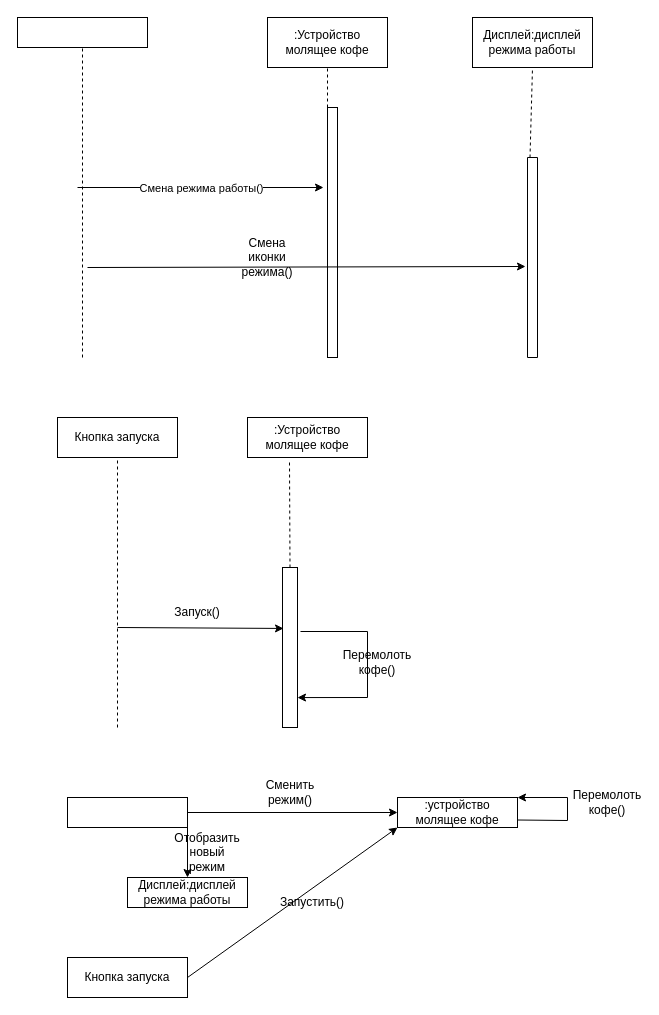
Some shapes in this 659 by 1015 pixel diagram are drawn without their labels. Here are the shapes that lost their labels. From the top down, the centre of each, then its label:
[82,32]: Кнопка смены режима
[127,812]: Кнопка смены
